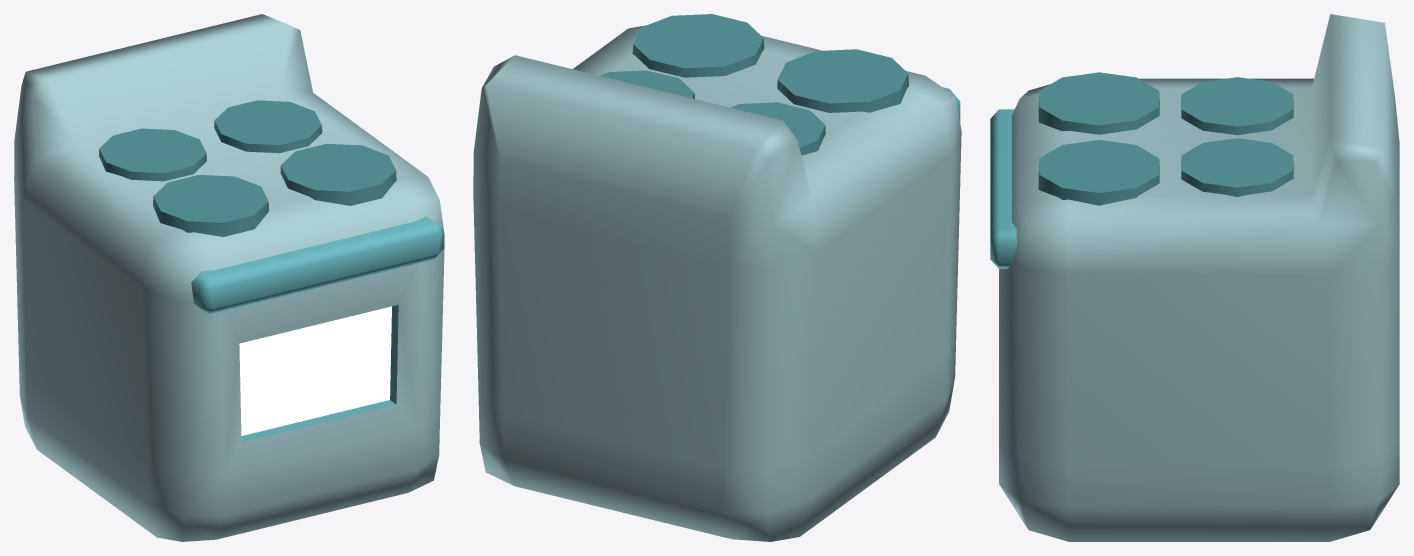
Rendered from app_stove.fbx.
The picture shows the model from 3 angles, left to right: view 1: azimuth 30°, elevation 25°; view 2: azimuth 150°, elevation 25°; view 3: azimuth 270°, elevation 25°; orthographic projection. The views are drawn at different scales.
Parts seen in each view (by area): view 1: stove_body; view 2: stove_body; view 3: stove_body.
Part boxes in pixels (x1,y1,x2,y2): stove_body: (14, 14, 444, 541); stove_body: (473, 14, 961, 541); stove_body: (990, 14, 1399, 541).
Bounding box in the file's own units: 60.04 × 72.96 × 66.42.
